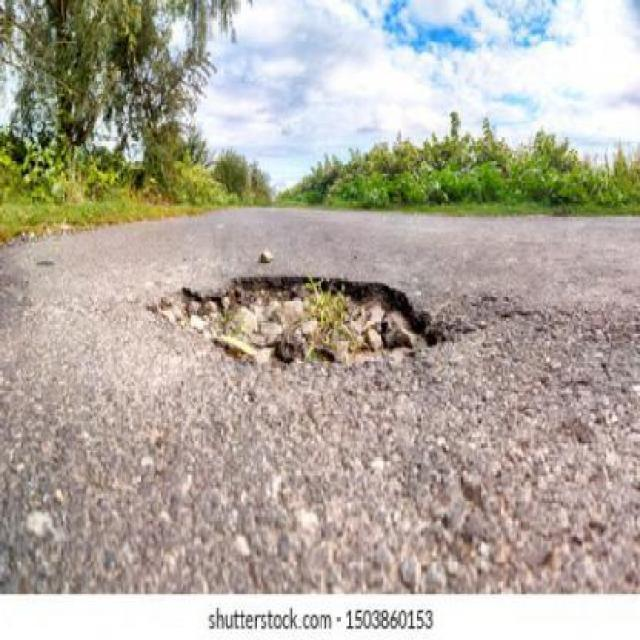Buraco: (140, 269, 448, 371)
